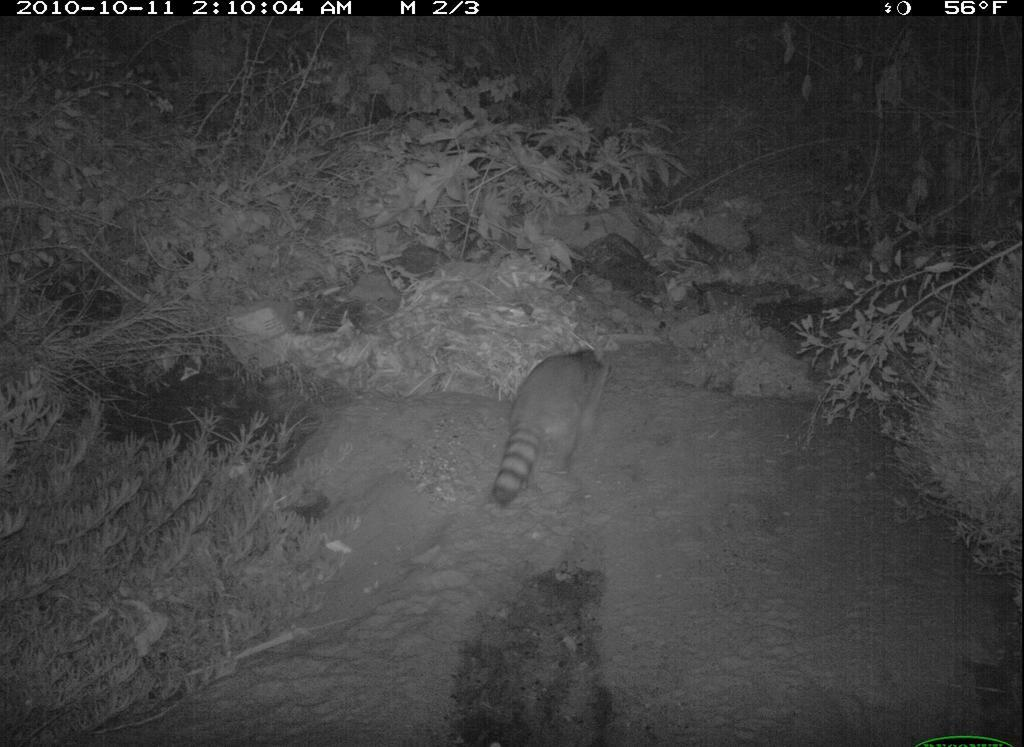raccoon: (482, 324, 621, 537)
